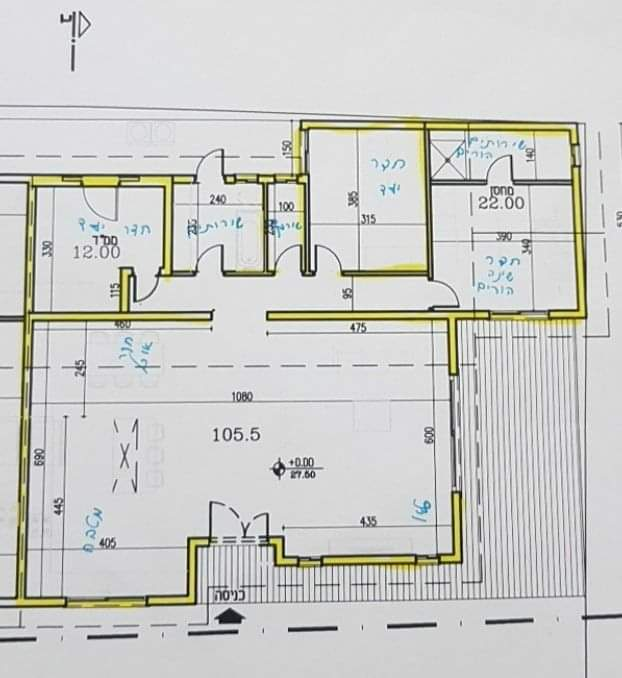door: (204, 496, 271, 551), (129, 261, 165, 306), (312, 240, 348, 283), (79, 189, 124, 223), (191, 147, 227, 188), (190, 244, 229, 281), (481, 152, 519, 189), (423, 276, 464, 310)
